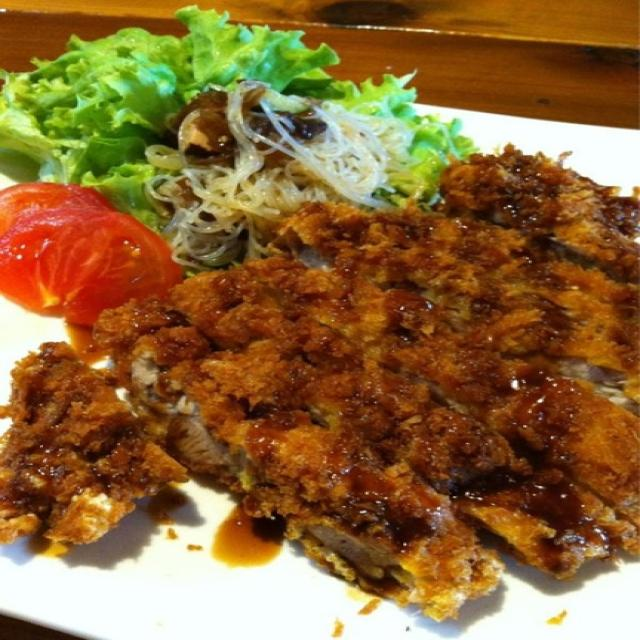鸡肉料理 含炸鸡: (3, 146, 637, 608)
